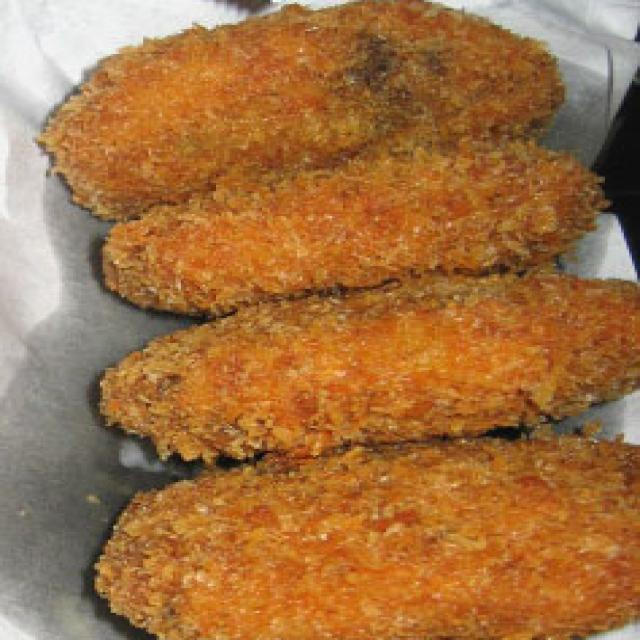炸货点心: (51, 0, 640, 640)
熟制海鲜: (51, 0, 640, 640)
